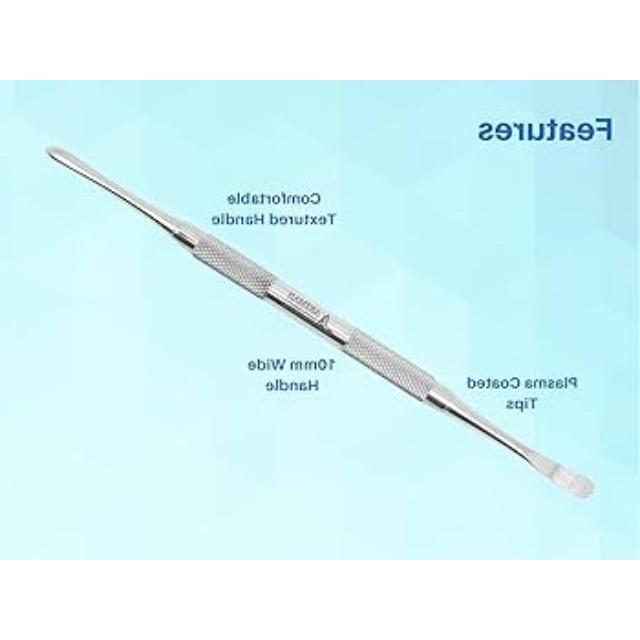elevador: (45, 146, 595, 501)
